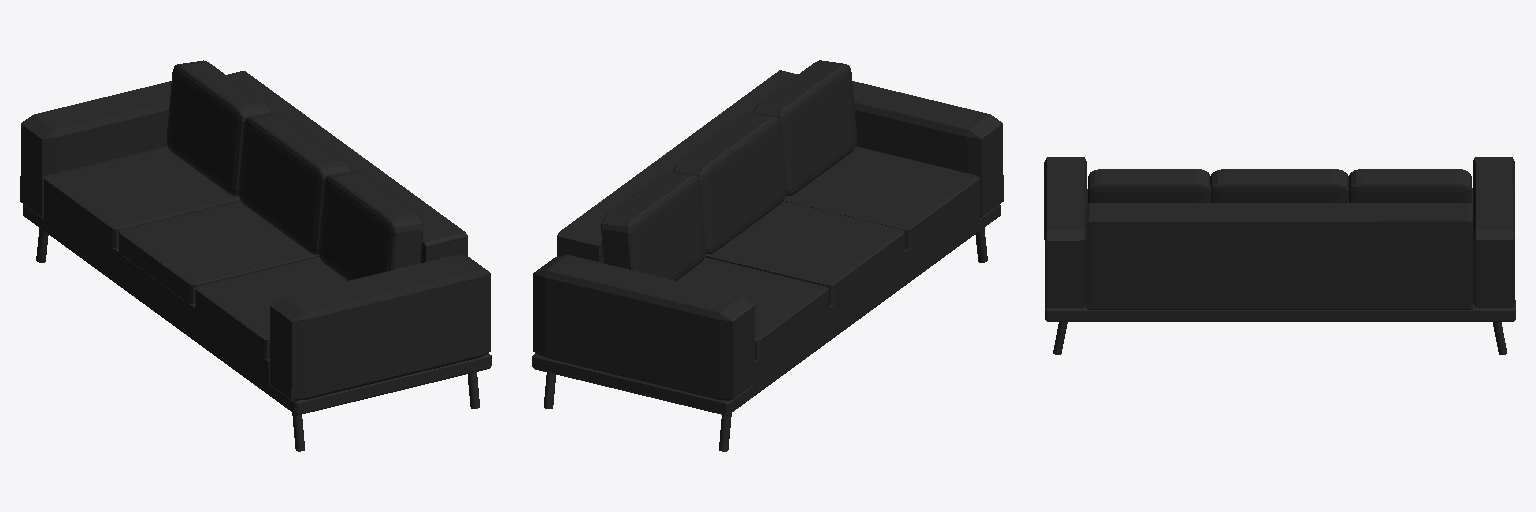
robot.urdf — banana:
<?xml version="1.0" encoding="utf-8"?>
<robot name="banana">
  <link name="base_link">
    <contact>
      <lateral_friction value="0.5"/>
      <rolling_friction value="0.0"/>
      <contact_cfm value="0.0"/>
      <contact_erp value="1.0"/>
    </contact>
    <inertial>
      <origin rpy="0 0 0" xyz="0 0 0"/>
      <mass value="0"/>
      <inertia ixx="0" ixy="0" ixz="0" iyy="0" iyz="0" izz="0"/>
    </inertial>
    <visual>
      <origin rpy="1.57 0 -1.57" xyz="0 0 0"/>
      <geometry>
        <mesh filename="models/meshes/couch/couch.obj"  scale="120 120 120"/>
      </geometry>
      <material name="tray_material">
        <color rgba="0.2 0.2 0.2 1"/>
      </material>
    </visual>
    <collision concave="yes">
      <origin rpy="1.57 0 -1.57" xyz="0 0 0"/>
      <geometry>
        <mesh filename="models/meshes/couch/couch.obj" scale="120 120 120"/>
      </geometry>
    </collision>
  </link>
</robot>

--- Facts derived from the render (not from the file) ---
3 views of the same robot in one strip: view 1: azimuth 30°, elevation 25°; view 2: azimuth 150°, elevation 25°; view 3: azimuth 270°, elevation 25° (orthographic).
Model banana with 1 links and 0 joints (none), rooted at base_link, posed every joint at zero.
Links seen in each view (by area): view 1: base_link; view 2: base_link; view 3: base_link.
Boxes of the visible links, <box> form: base_link: <box>20,60,491,451</box>; base_link: <box>532,60,1003,451</box>; base_link: <box>1044,157,1515,354</box>.
Size in the robot's own frame: 1.02 by 2.4 by 0.9025 metres.
Meshes: 1 distinct files referenced, 1 mesh visuals loaded (1 OBJ).